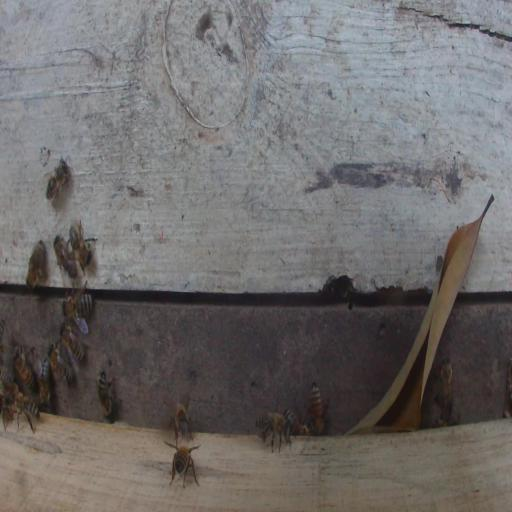nonpollenbee: (69, 219, 98, 275), (255, 411, 291, 454), (62, 288, 93, 334), (170, 444, 200, 489), (45, 155, 71, 201), (13, 345, 37, 394), (97, 370, 120, 420), (11, 393, 39, 434), (308, 380, 329, 433), (53, 233, 77, 279), (48, 344, 74, 386), (26, 240, 46, 293), (59, 324, 85, 363), (59, 325, 85, 356), (284, 407, 311, 436), (39, 357, 51, 410), (1, 367, 19, 401), (440, 355, 453, 402), (173, 402, 189, 438), (435, 408, 459, 427)
